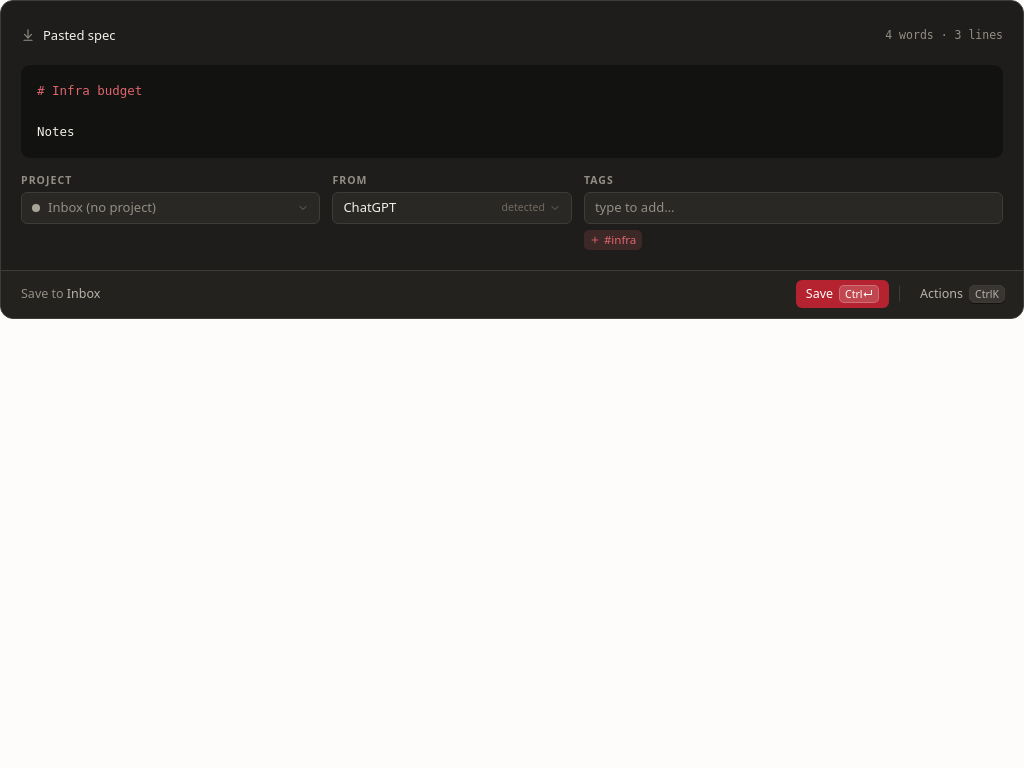
Test: capture sheet — title, formatting and tags › offers the vault's tags the clip is about, one click each
This screenshot has width=1024, height=768.
Click the button "#infra" at (613, 240), box [584, 230, 642, 250]
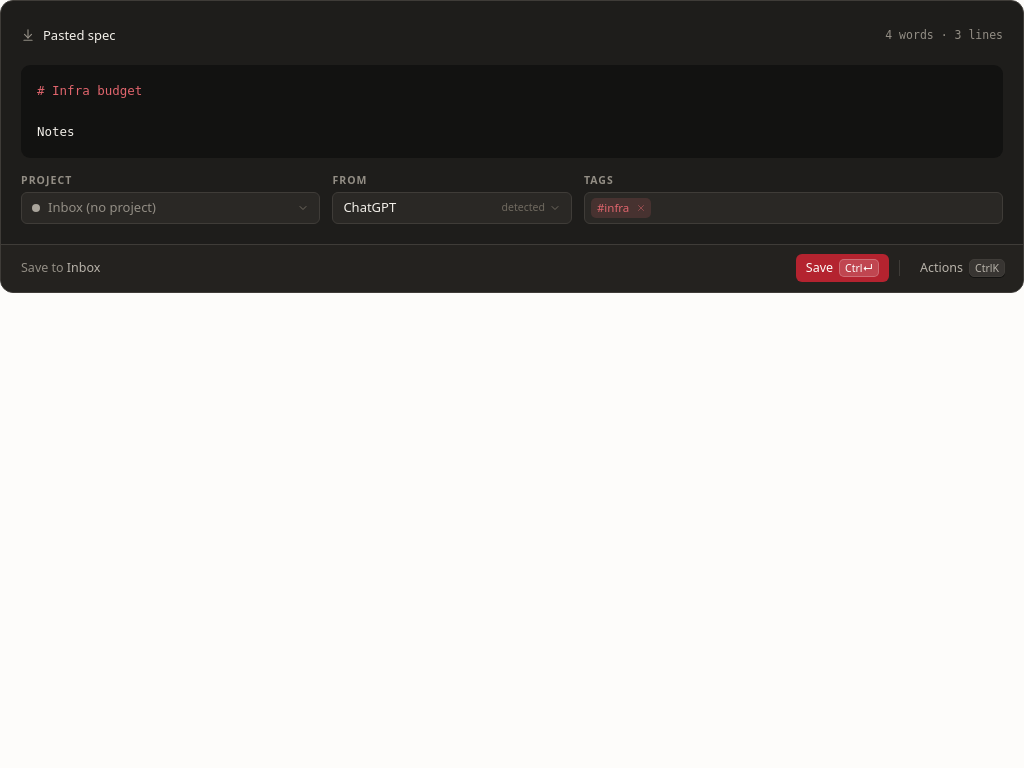
Expected: the button named "Remove infra" is shown, [633, 200, 649, 216]
